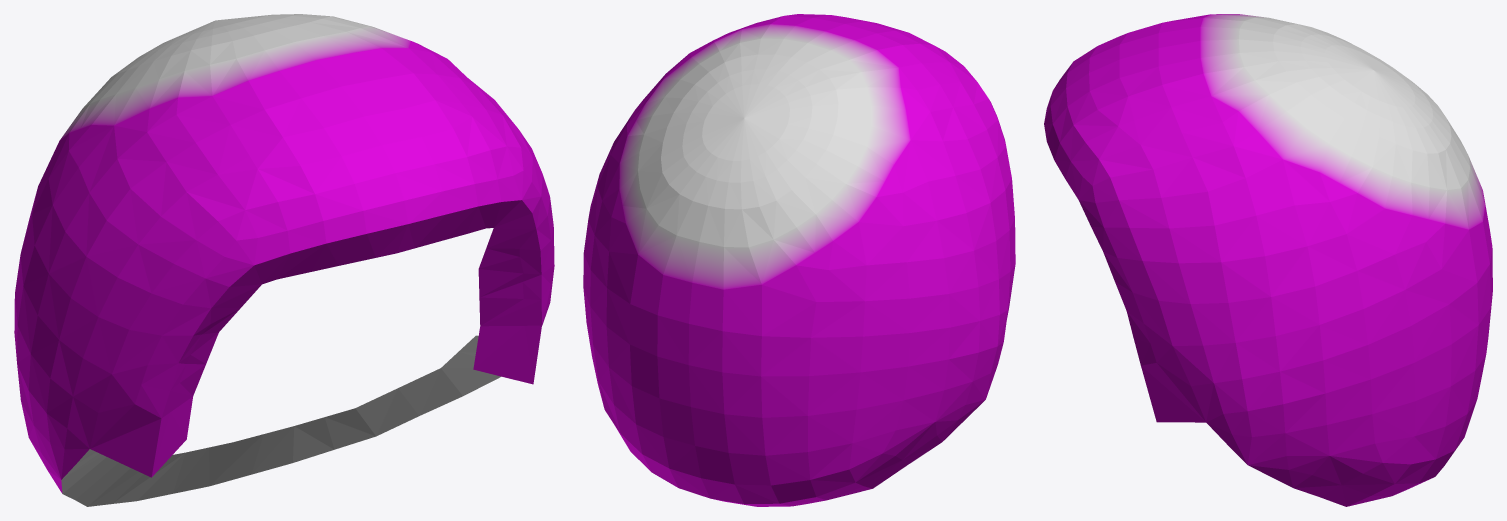
Rendered from hair_119.glb.
3 renders of one model, left to right at view 1: azimuth 30°, elevation 25°; view 2: azimuth 150°, elevation 25°; view 3: azimuth 270°, elevation 25°, orthographic. The views are drawn at different scales.
Visible parts, largest first — view 1: shape; view 2: shape; view 3: shape.
Boxes of the visible parts, x1,y1,x2,y2 form: shape: (14, 14, 554, 506); shape: (583, 14, 1015, 506); shape: (1044, 14, 1492, 506).
Size of the model in its own units: 63.23 by 63.05 by 59.16.
